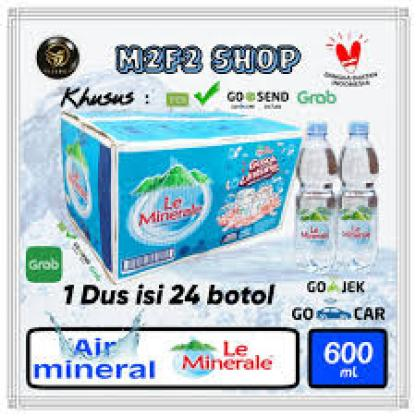Glass Bottle: (293, 119, 339, 274), (336, 119, 380, 272)
